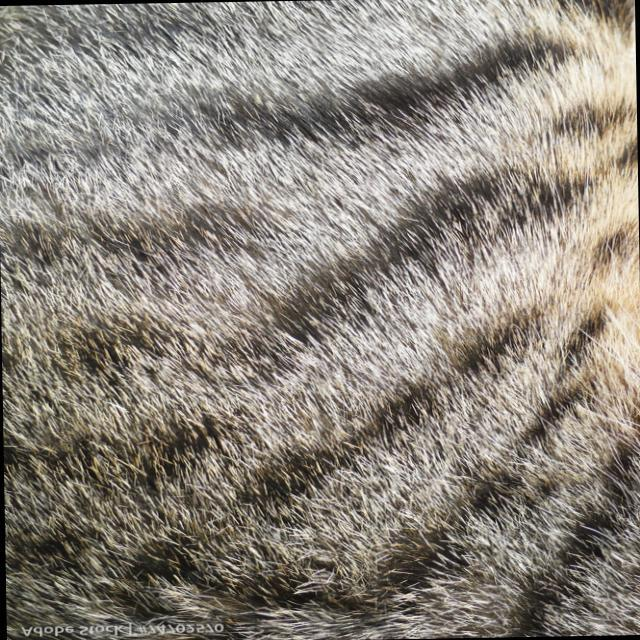Healthy skin: (51, 9, 622, 262), (301, 270, 634, 640)
